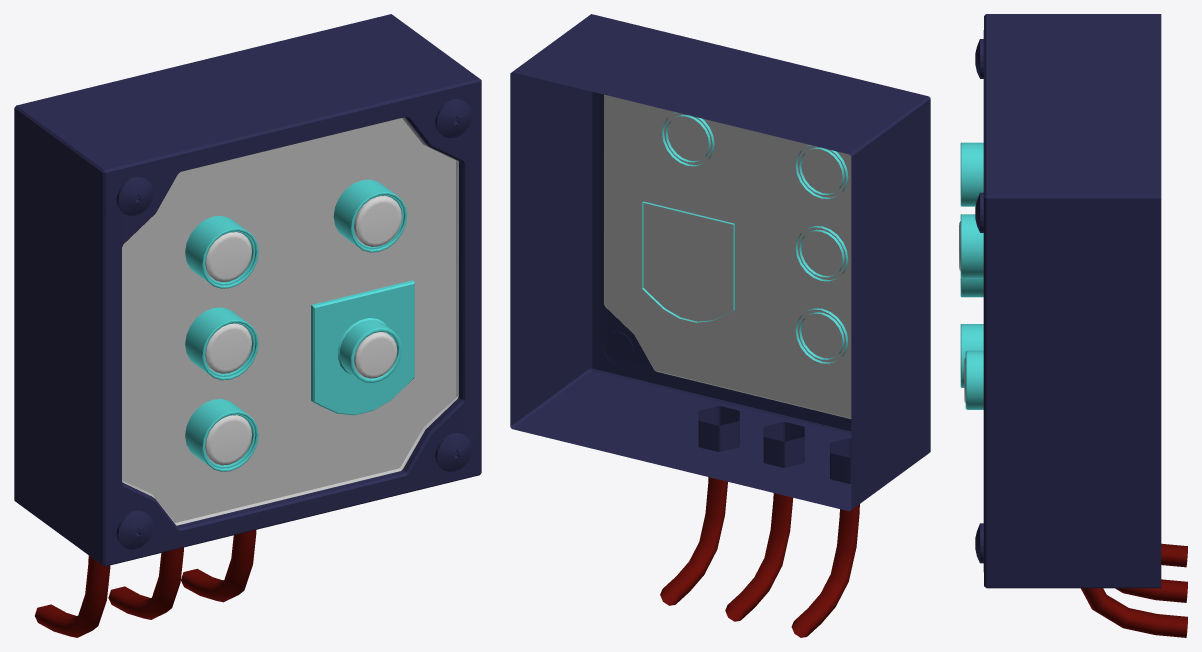
File: puzzle5.fbx
3 renders of one model, left to right at view 1: azimuth 30°, elevation 25°; view 2: azimuth 150°, elevation 25°; view 3: azimuth 270°, elevation 25°, orthographic. The views are drawn at different scales.
Parts seen in each view (by area): view 1: polySurface6, polySurface1, polySurface5, polySurface3, polySurface4, polySurface2; view 2: polySurface6; view 3: polySurface6.
Boxes of the visible parts, bbox=[...] form: polySurface6: bbox=[14, 14, 481, 637]; polySurface1: bbox=[354, 195, 401, 246]; polySurface5: bbox=[205, 232, 251, 282]; polySurface3: bbox=[205, 323, 251, 373]; polySurface4: bbox=[205, 415, 251, 465]; polySurface2: bbox=[354, 332, 397, 378]; polySurface6: bbox=[510, 14, 930, 637]; polySurface6: bbox=[960, 14, 1187, 637].
Size of the model in its own units: 5.23 by 7.09 by 2.76.
